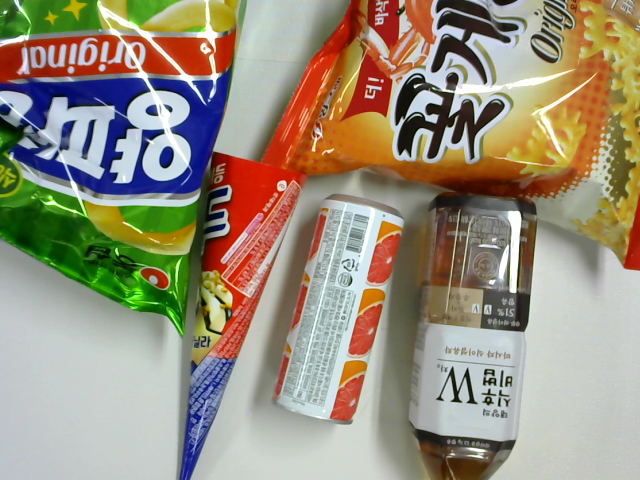Crabrang: (262, 1, 640, 271)
Demisoda_Grapefruit_Can_250ml: (271, 198, 402, 427)
Oninon_Ring: (1, 1, 249, 338)
Post-meal_recipe_W_tea_500ml: (418, 193, 540, 480)
World_Cone_Banila: (178, 151, 308, 480)
